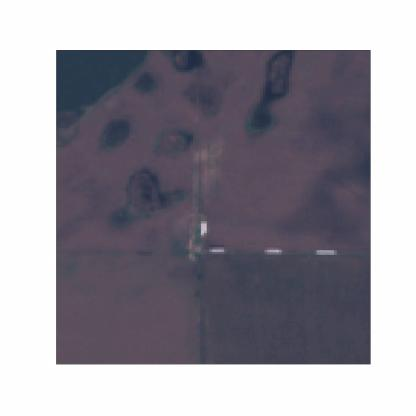silobolsa: (262, 245, 283, 254), (314, 248, 336, 255), (199, 218, 206, 236), (208, 246, 226, 253)
